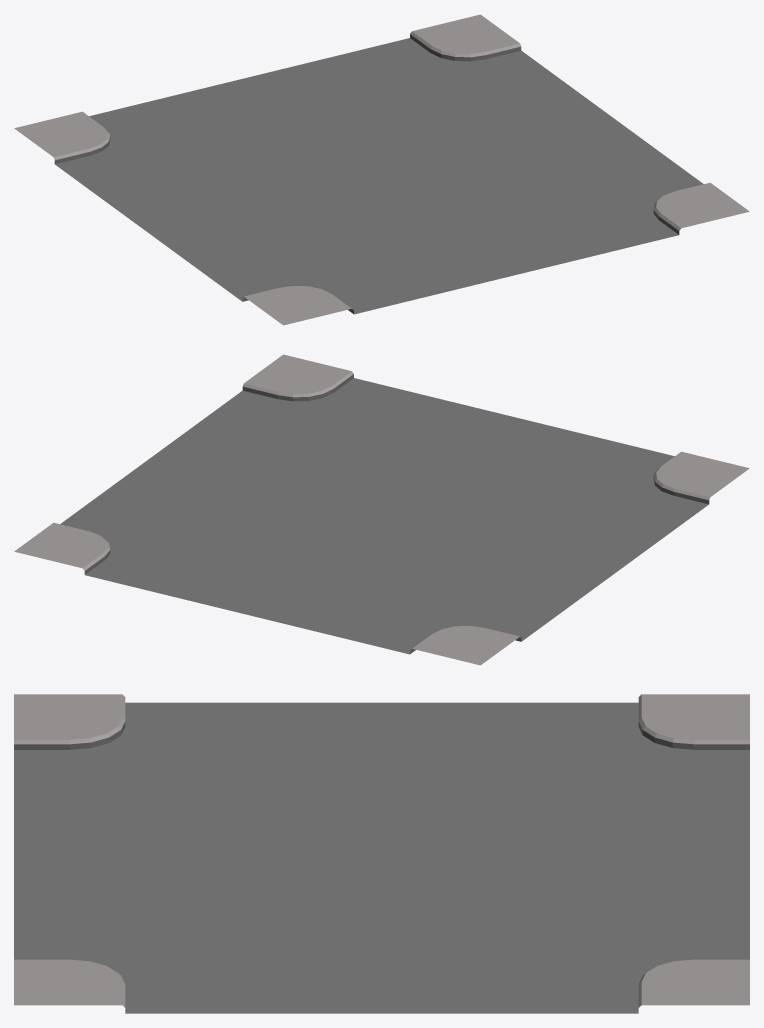
Rendered from road_intersect_patch.fbx.
The picture shows the model from 3 angles, top to bottom: view 1: azimuth 30°, elevation 25°; view 2: azimuth 150°, elevation 25°; view 3: azimuth 270°, elevation 25°; orthographic projection. The views are drawn at different scales.
Parts seen in each view (by area): view 1: road_intersect_patch; view 2: road_intersect_patch; view 3: road_intersect_patch.
Boxes of the visible parts, x1,y1,x2,y2 form: road_intersect_patch: (14,14,749,325); road_intersect_patch: (14,354,749,665); road_intersect_patch: (14,694,749,1013).
Bounding box in the file's own units: 2066 × 26.46 × 2066.
